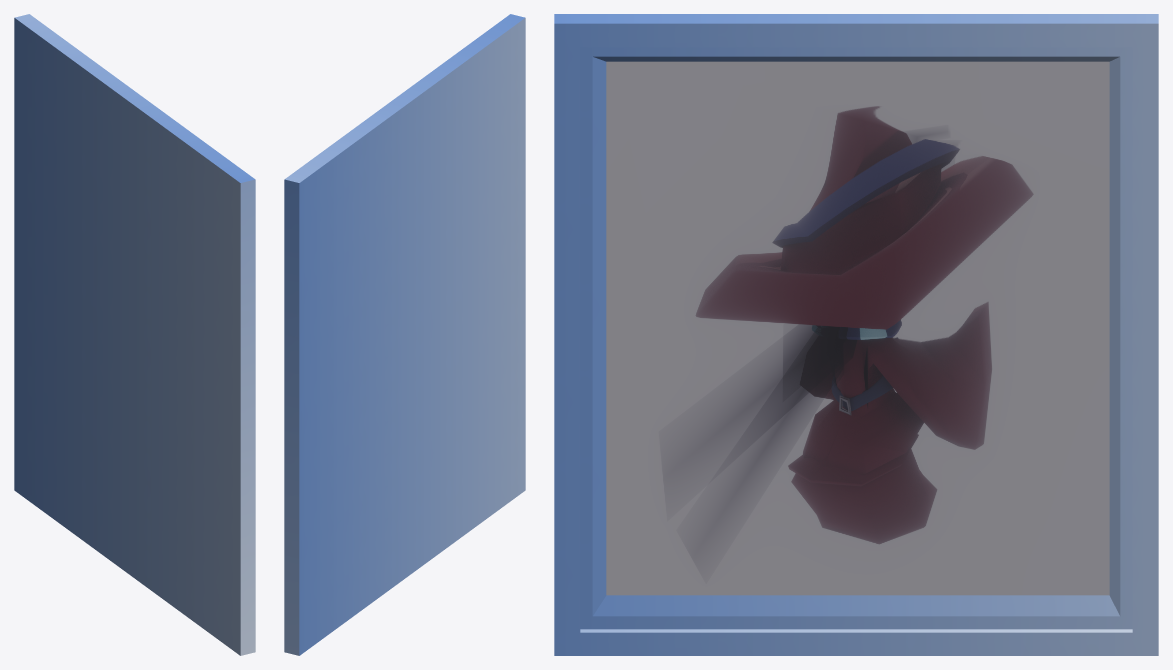
File: pic1.fbx
The picture shows the model from 3 angles, left to right: view 1: azimuth 30°, elevation 25°; view 2: azimuth 150°, elevation 25°; view 3: azimuth 270°, elevation 25°; orthographic projection. The views are drawn at different scales.
Parts seen in each view (by area): view 1: PicFrame1; view 2: PicFrame1; view 3: PicFrame1.
Part boxes in pixels (box(x1,y1,x2,y2)): PicFrame1: box(14, 14, 255, 655); PicFrame1: box(284, 14, 525, 655); PicFrame1: box(554, 14, 1158, 655).
Size of the model in its own units: 10 by 300 by 260.
